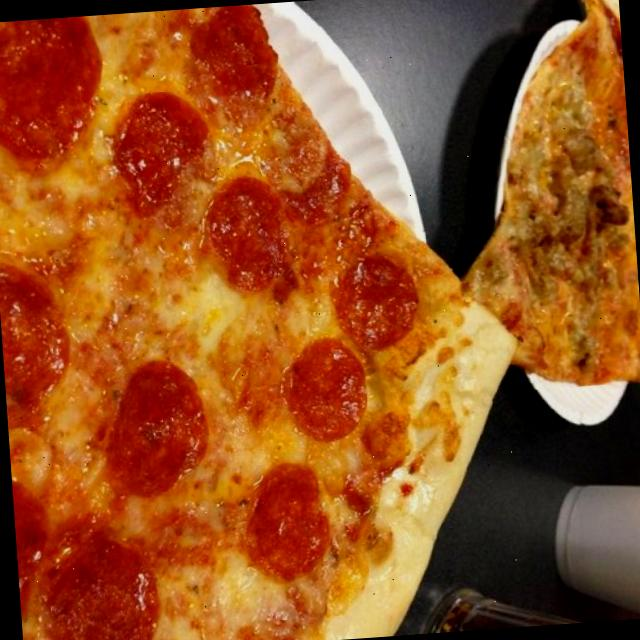pepperoni: (83, 344, 220, 504), (0, 13, 124, 184), (0, 247, 94, 443), (26, 522, 179, 640), (217, 441, 344, 583), (96, 88, 222, 216), (268, 330, 383, 450), (172, 2, 290, 118), (324, 240, 432, 352), (199, 175, 295, 299), (10, 468, 68, 598)
pizza: (0, 5, 513, 640), (463, 0, 640, 383)
